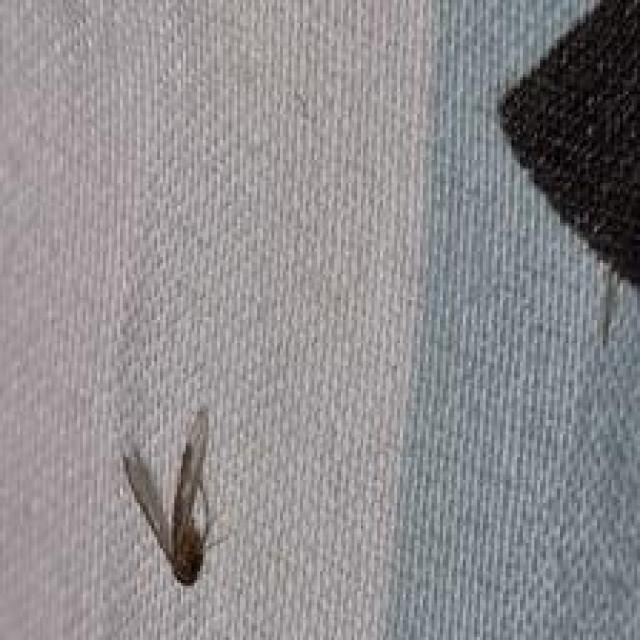Culex: (120, 407, 226, 587)
